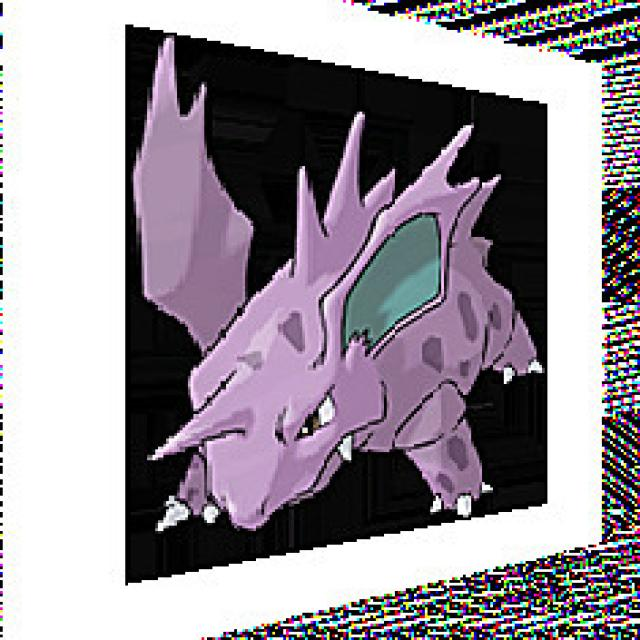Nidorino: (132, 107, 538, 524)
